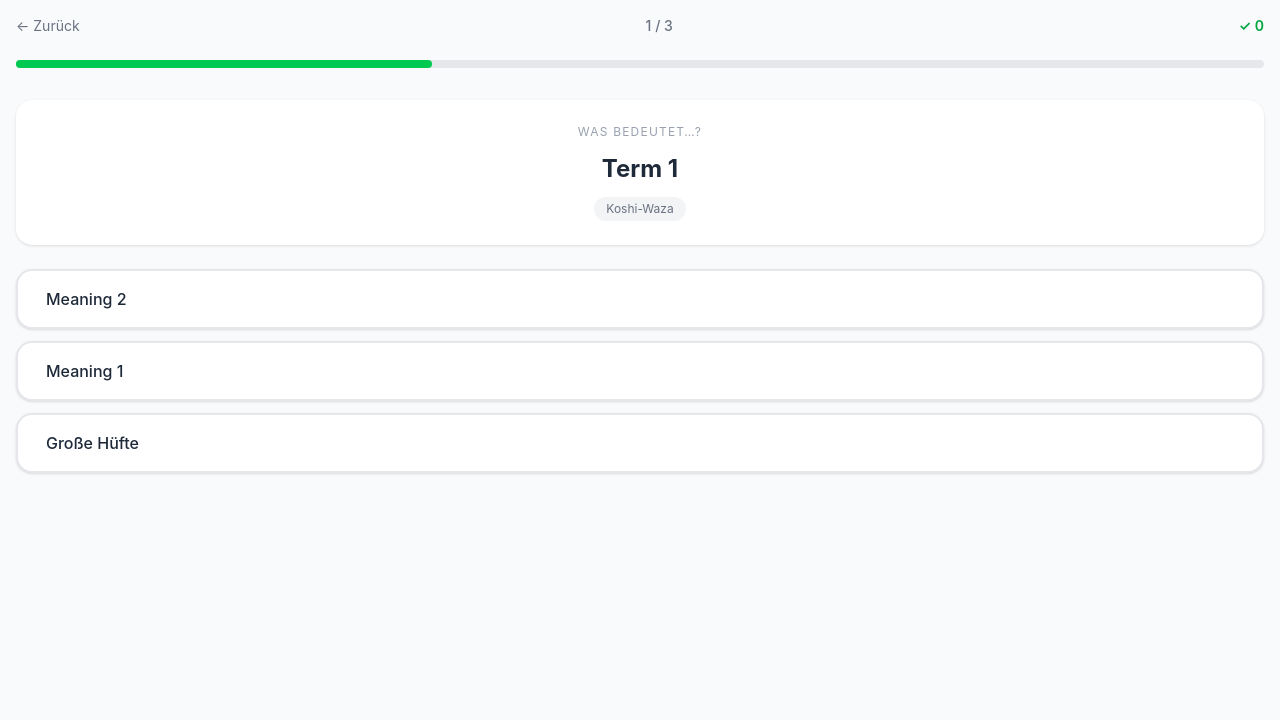
Scenario: Quiz – score screen › shows the score screen after the last question
This screenshot has width=1280, height=720.
Click the button with test id "choice-correct" at (85,371), box [16,341,1264,401]
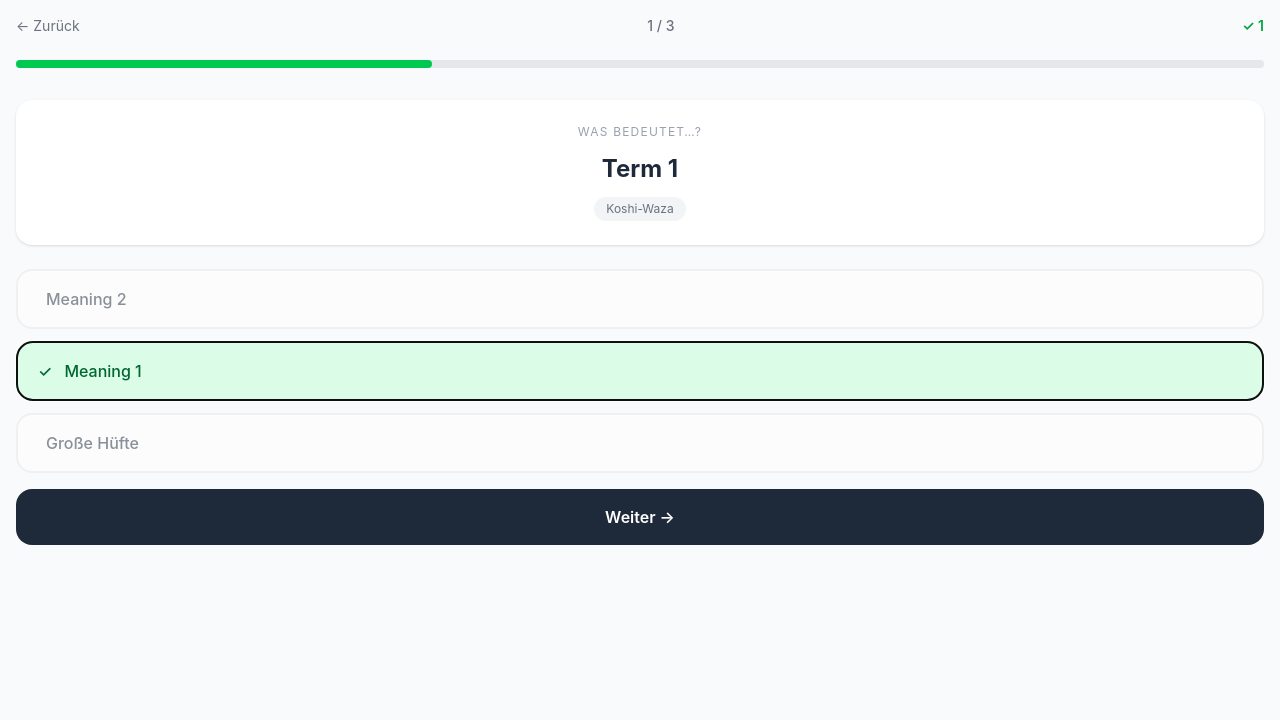
Click the button with test id "next-btn" at (640,517), box [16,489,1264,545]
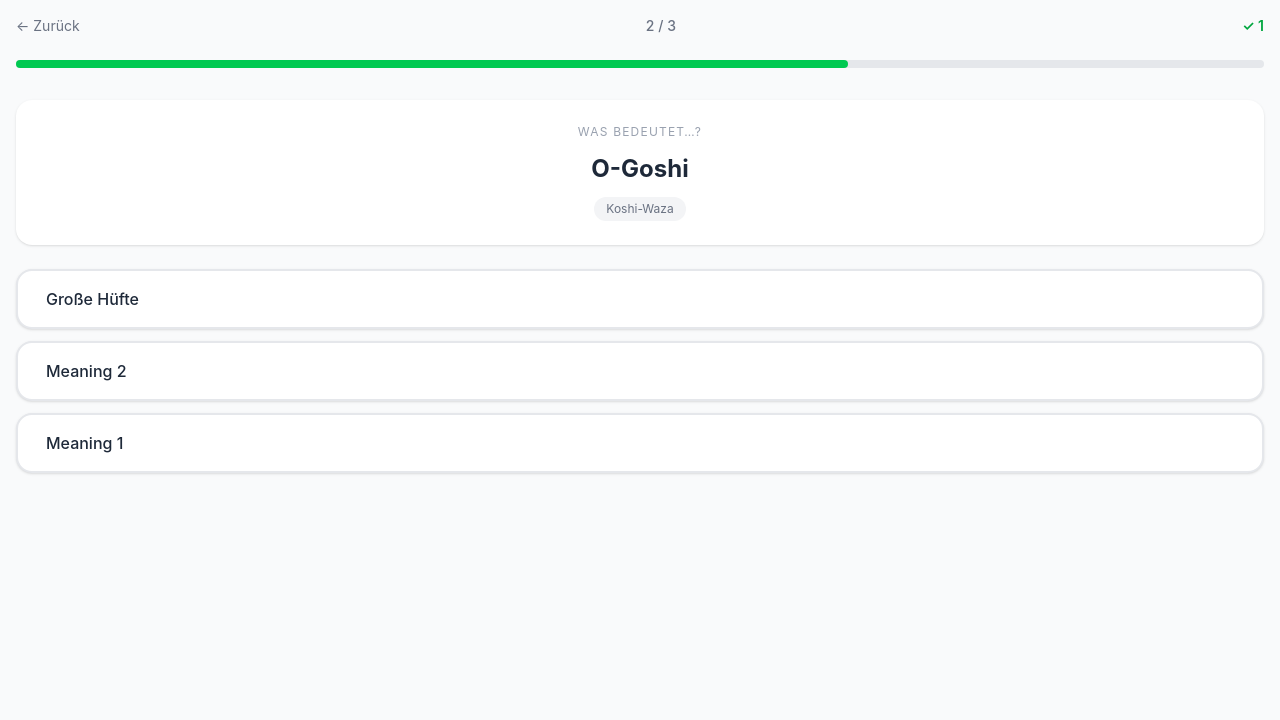
Click the button with test id "choice-correct" at (92,299), box [16,269,1264,329]
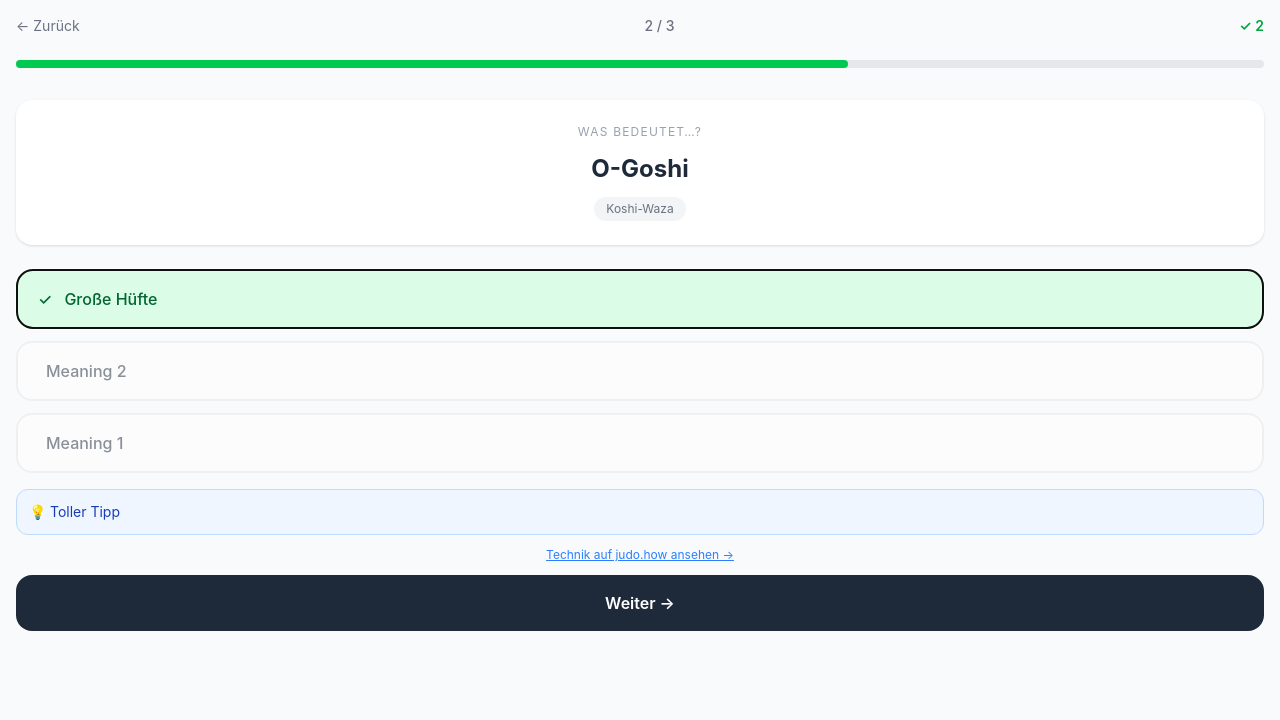
Click the button with test id "next-btn" at (640,603), box [16,575,1264,631]
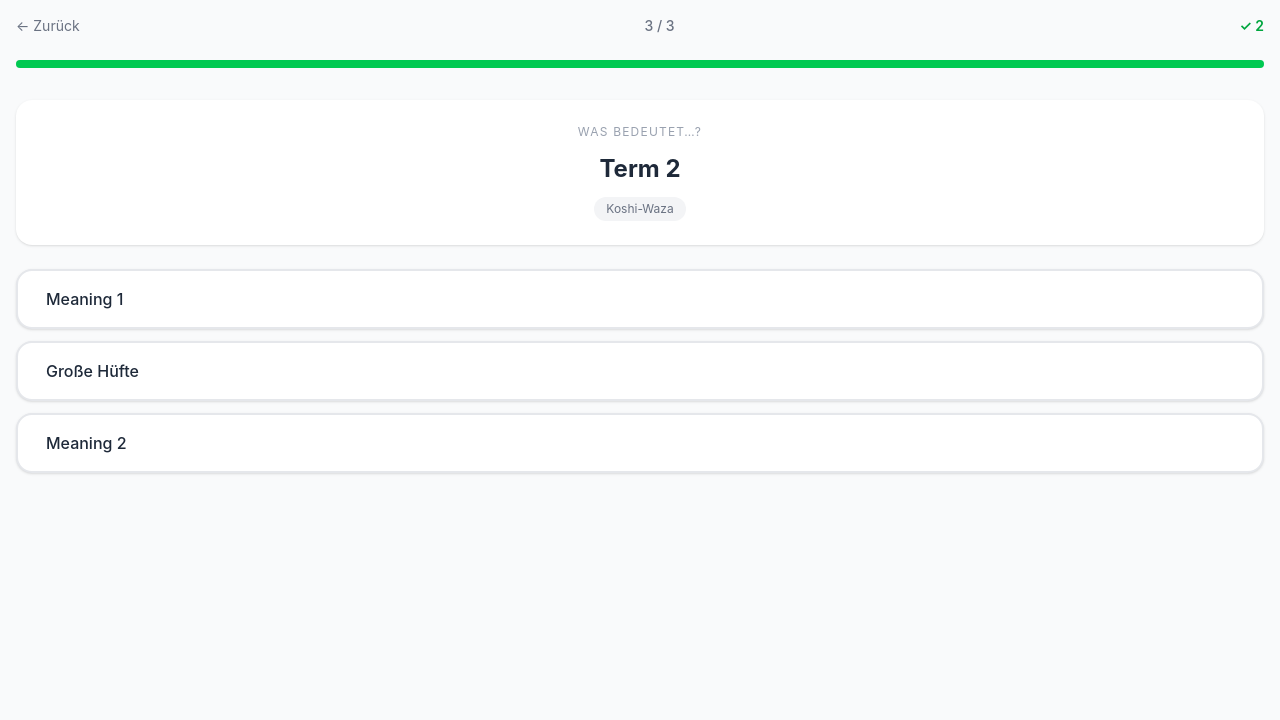
Click the button with test id "choice-correct" at (86,443), box [16,413,1264,473]
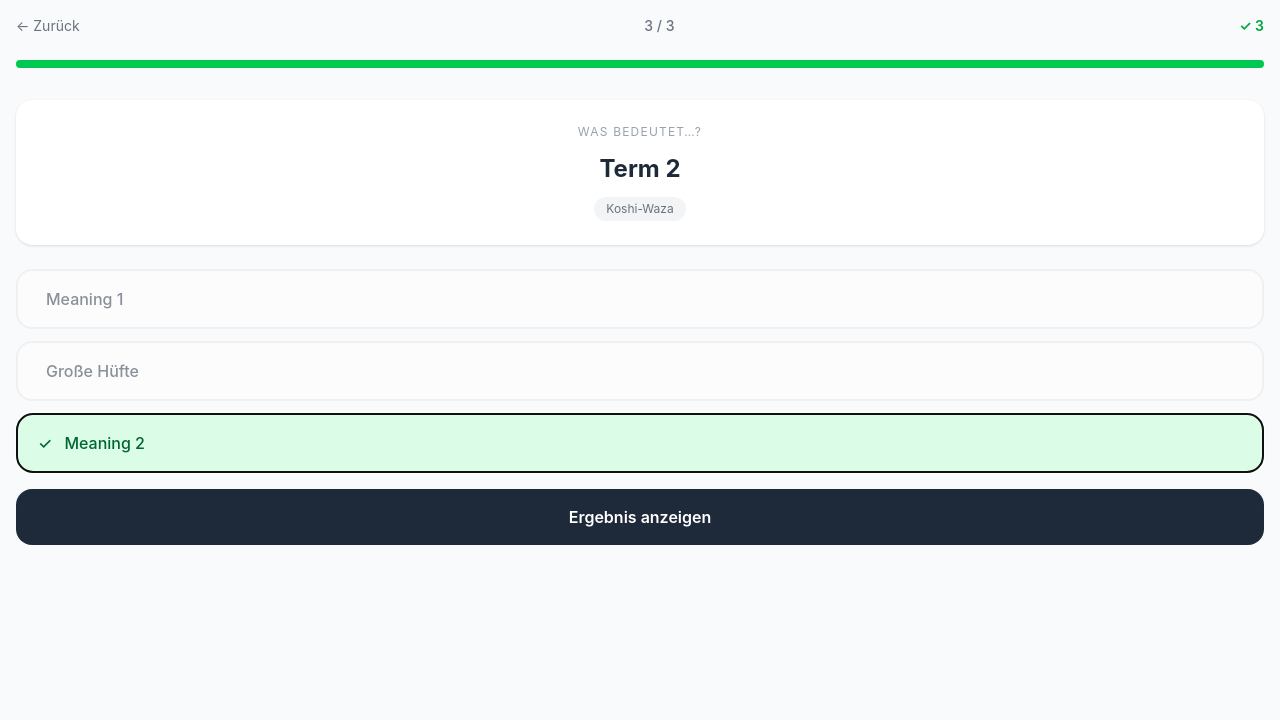
Click the button with test id "next-btn" at (640,517), box [16,489,1264,545]
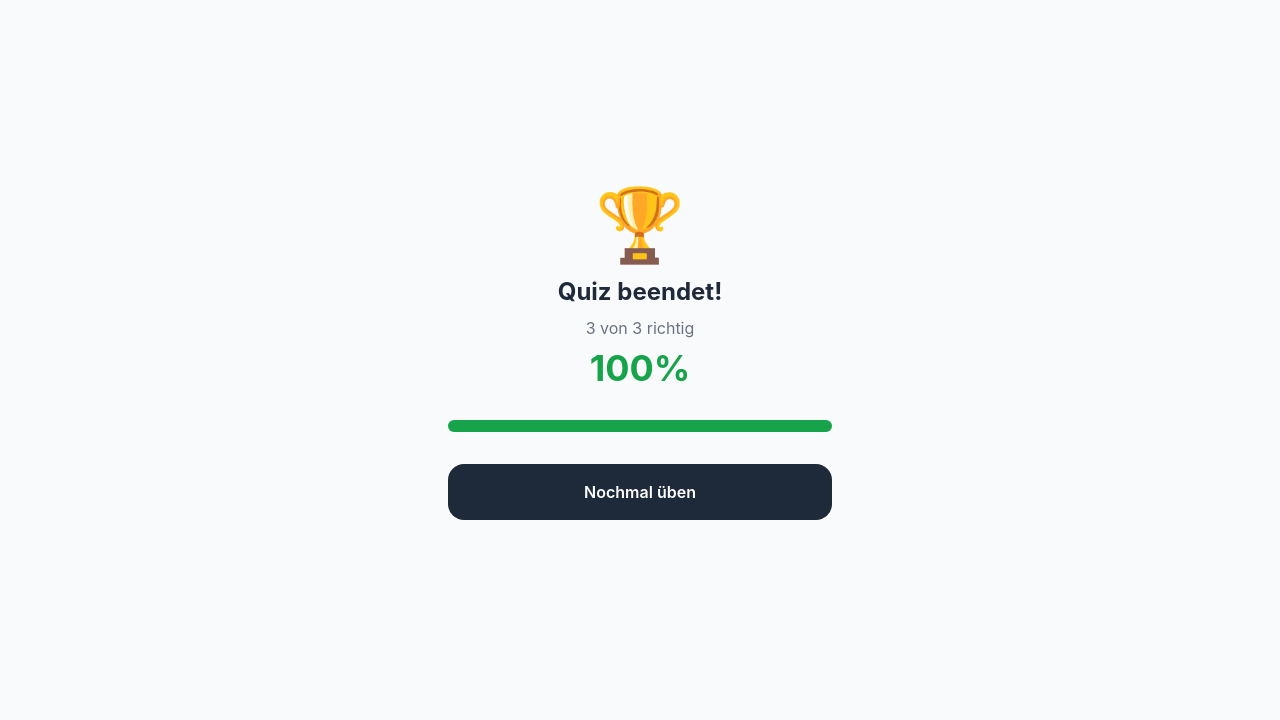
Expected: the heading "Quiz beendet!" is shown, [558,277,722,306]
